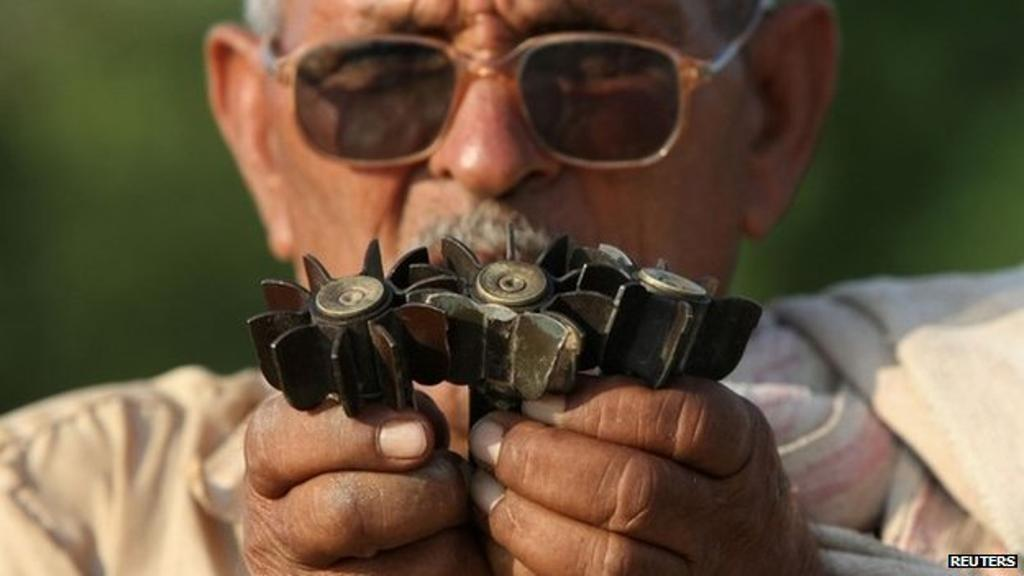face: (279, 5, 735, 475)
